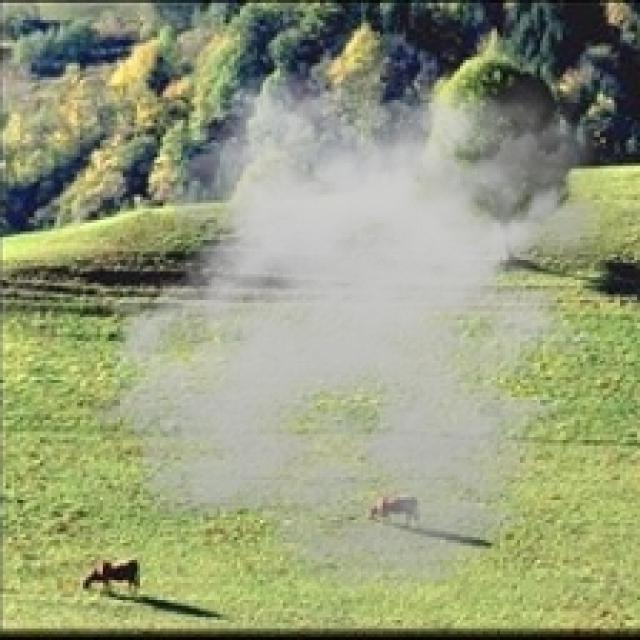Smoke: (91, 55, 634, 594)
